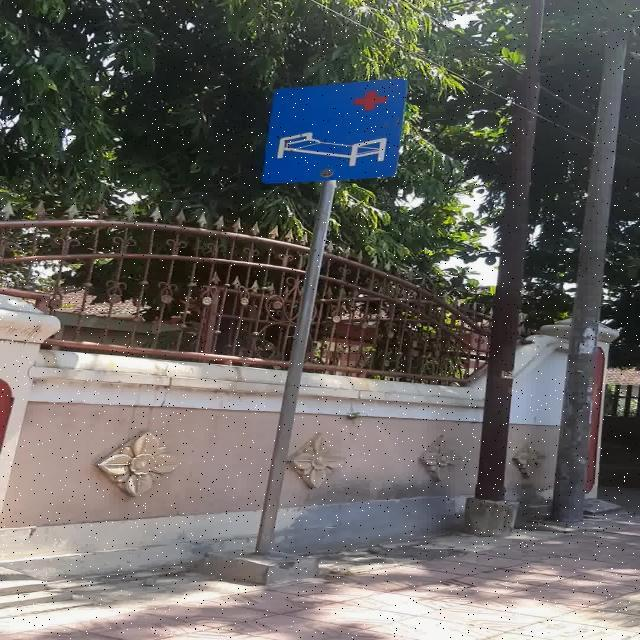Rumah Sakit: (262, 78, 408, 184)
